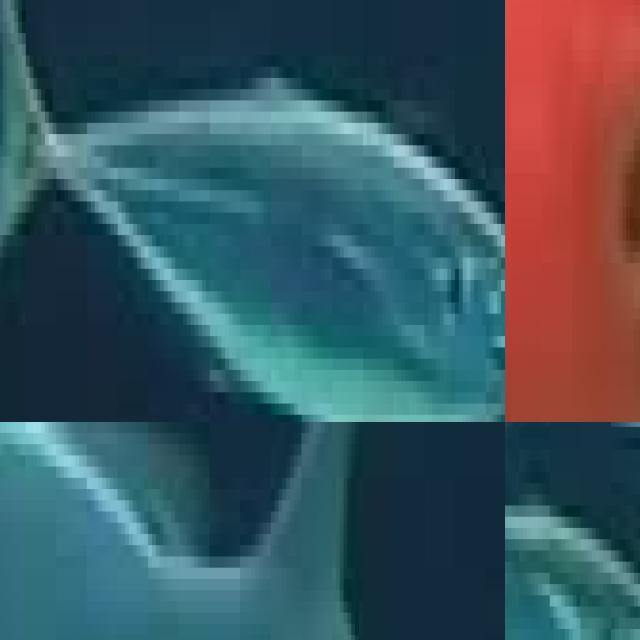fish: (0, 0, 505, 422), (505, 0, 640, 422)
